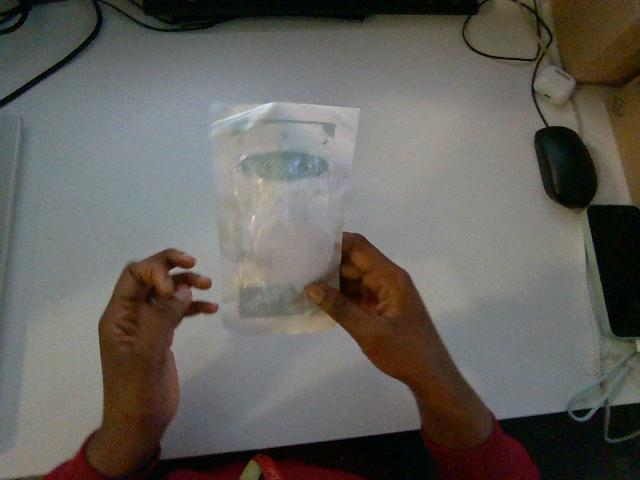gallipot: (211, 103, 358, 333)
